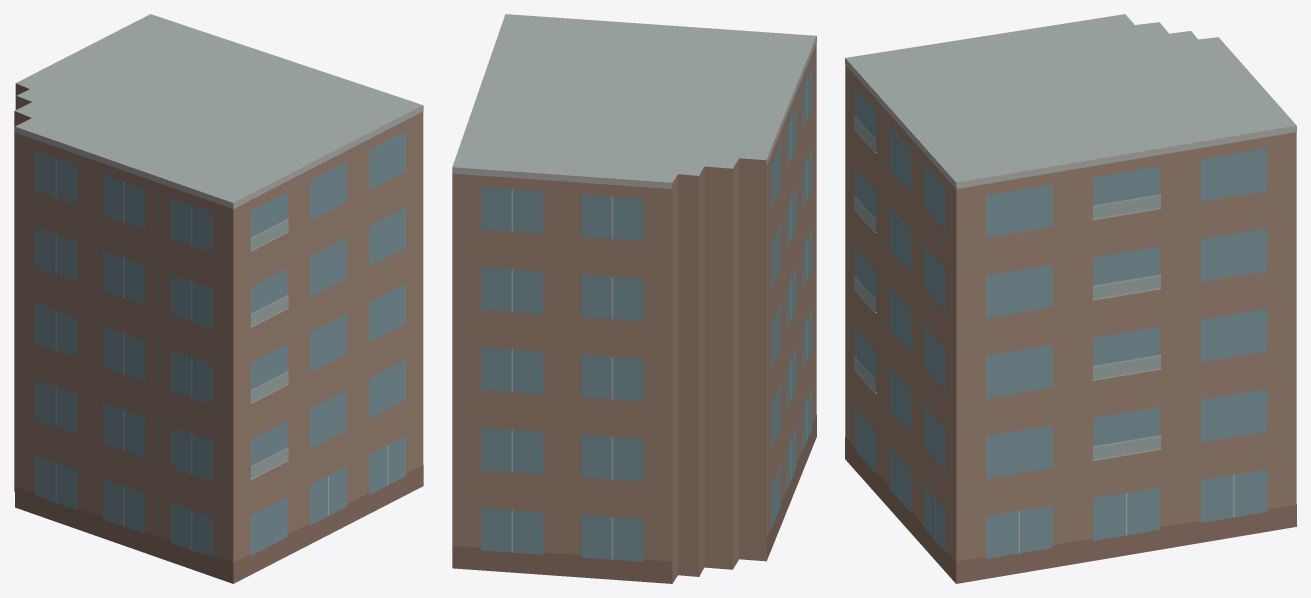
The model's file is survey-upis-32853635.glb.
3 renders of one model, left to right at view 1: azimuth 30°, elevation 25°; view 2: azimuth 150°, elevation 25°; view 3: azimuth 270°, elevation 25°, orthographic. The views are drawn at different scales.
Visible parts, largest first — view 1: survey-upis-32853635.tmp; view 2: survey-upis-32853635.tmp; view 3: survey-upis-32853635.tmp.
Boxes of the visible parts, x1,y1,x2,y2 form: survey-upis-32853635.tmp: (14, 14, 423, 583); survey-upis-32853635.tmp: (452, 14, 816, 583); survey-upis-32853635.tmp: (845, 14, 1296, 583).
Bounding box in the file's own units: 13.9 × 15.4 × 15.72.
